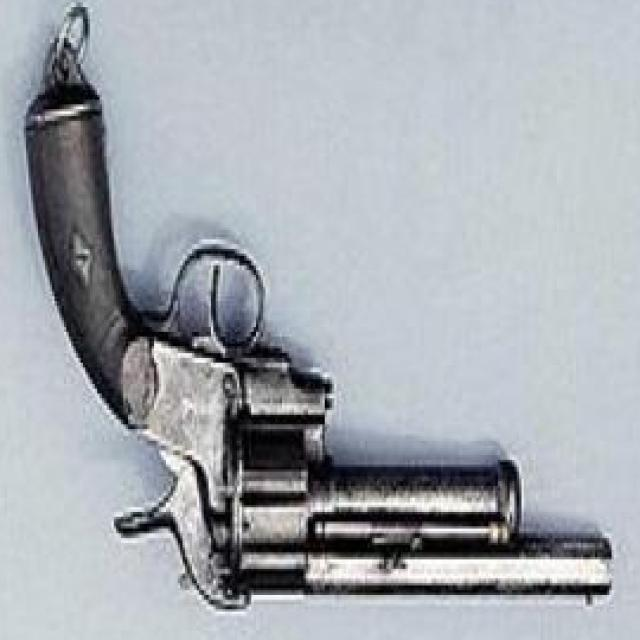pistol: (14, 84, 614, 614)
